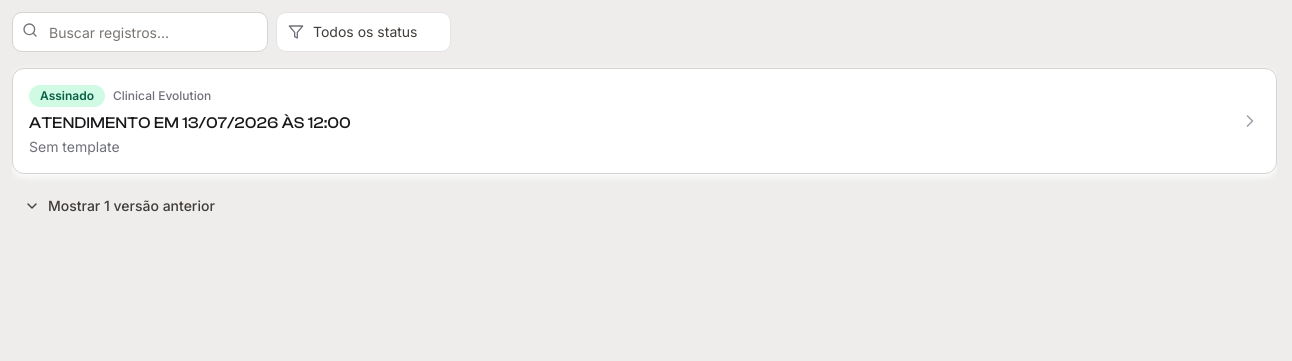
Test: ClinicalRecordsList accessibility › labels an abandoned replacement exactly as Rascunho abandonado
Click the button "Mostrar 1 versão anterior" at (119, 206), box [12,188,227,224]
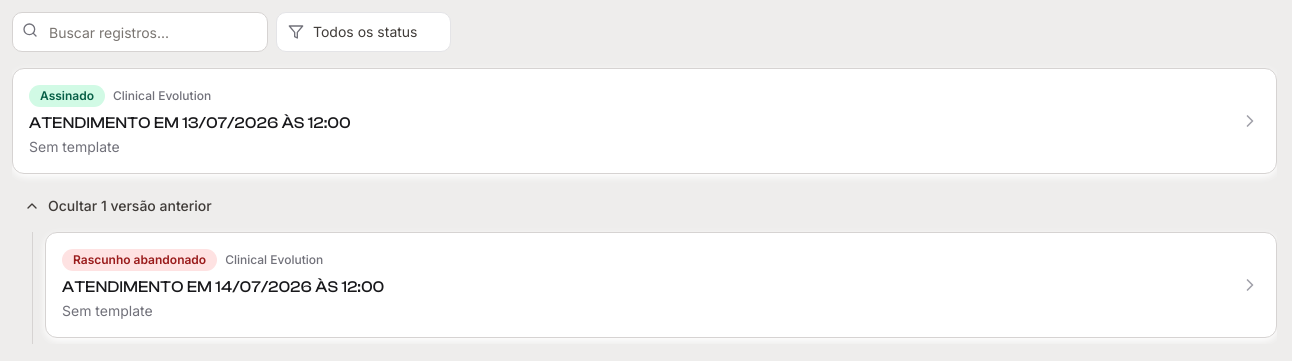
Now the text "Rascunho abandonado" is shown, box [62,249,217,271]
